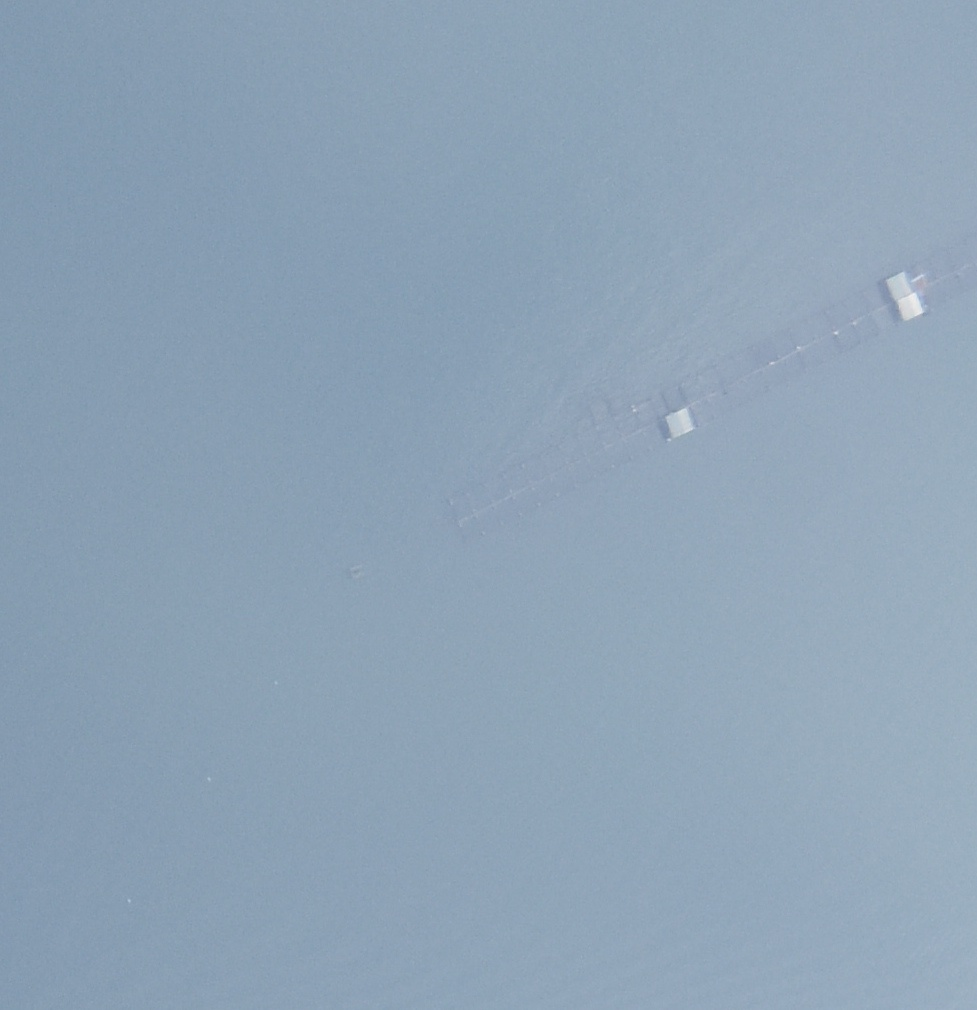cultivation-mesh-cage: (447, 389, 663, 525), (681, 286, 893, 417), (915, 225, 975, 300)
prefabricated-house: (885, 271, 925, 321), (662, 406, 697, 440)
